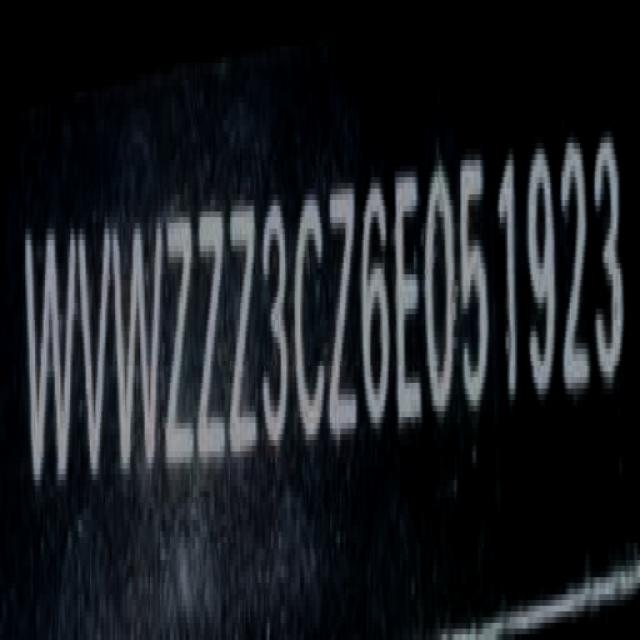0: (425, 156, 457, 430)
1: (499, 140, 521, 413)
2: (558, 132, 590, 404)
3: (596, 126, 627, 394), (261, 192, 291, 457)
5: (460, 143, 491, 420)
6: (362, 169, 392, 443)
9: (526, 142, 558, 408)
C: (296, 186, 327, 451)
E: (394, 163, 423, 446)
V: (78, 216, 110, 487)
W: (111, 212, 164, 482), (25, 214, 73, 503)
Z: (164, 210, 197, 474), (328, 168, 358, 446), (200, 194, 228, 478), (229, 193, 258, 465)
